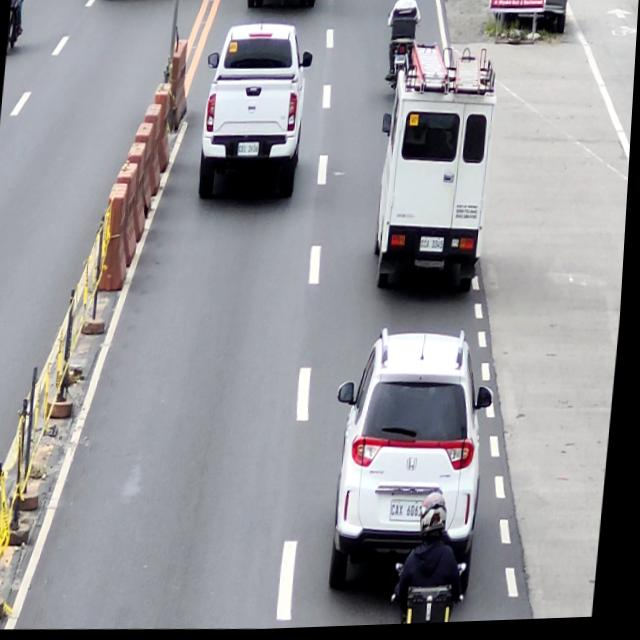Car: (325, 327, 505, 613), (370, 66, 499, 300), (195, 22, 316, 209)
License-Plate: (396, 502, 431, 526), (420, 239, 448, 257), (238, 140, 261, 159), (394, 55, 407, 66)
Motorcycle: (382, 11, 422, 97)
